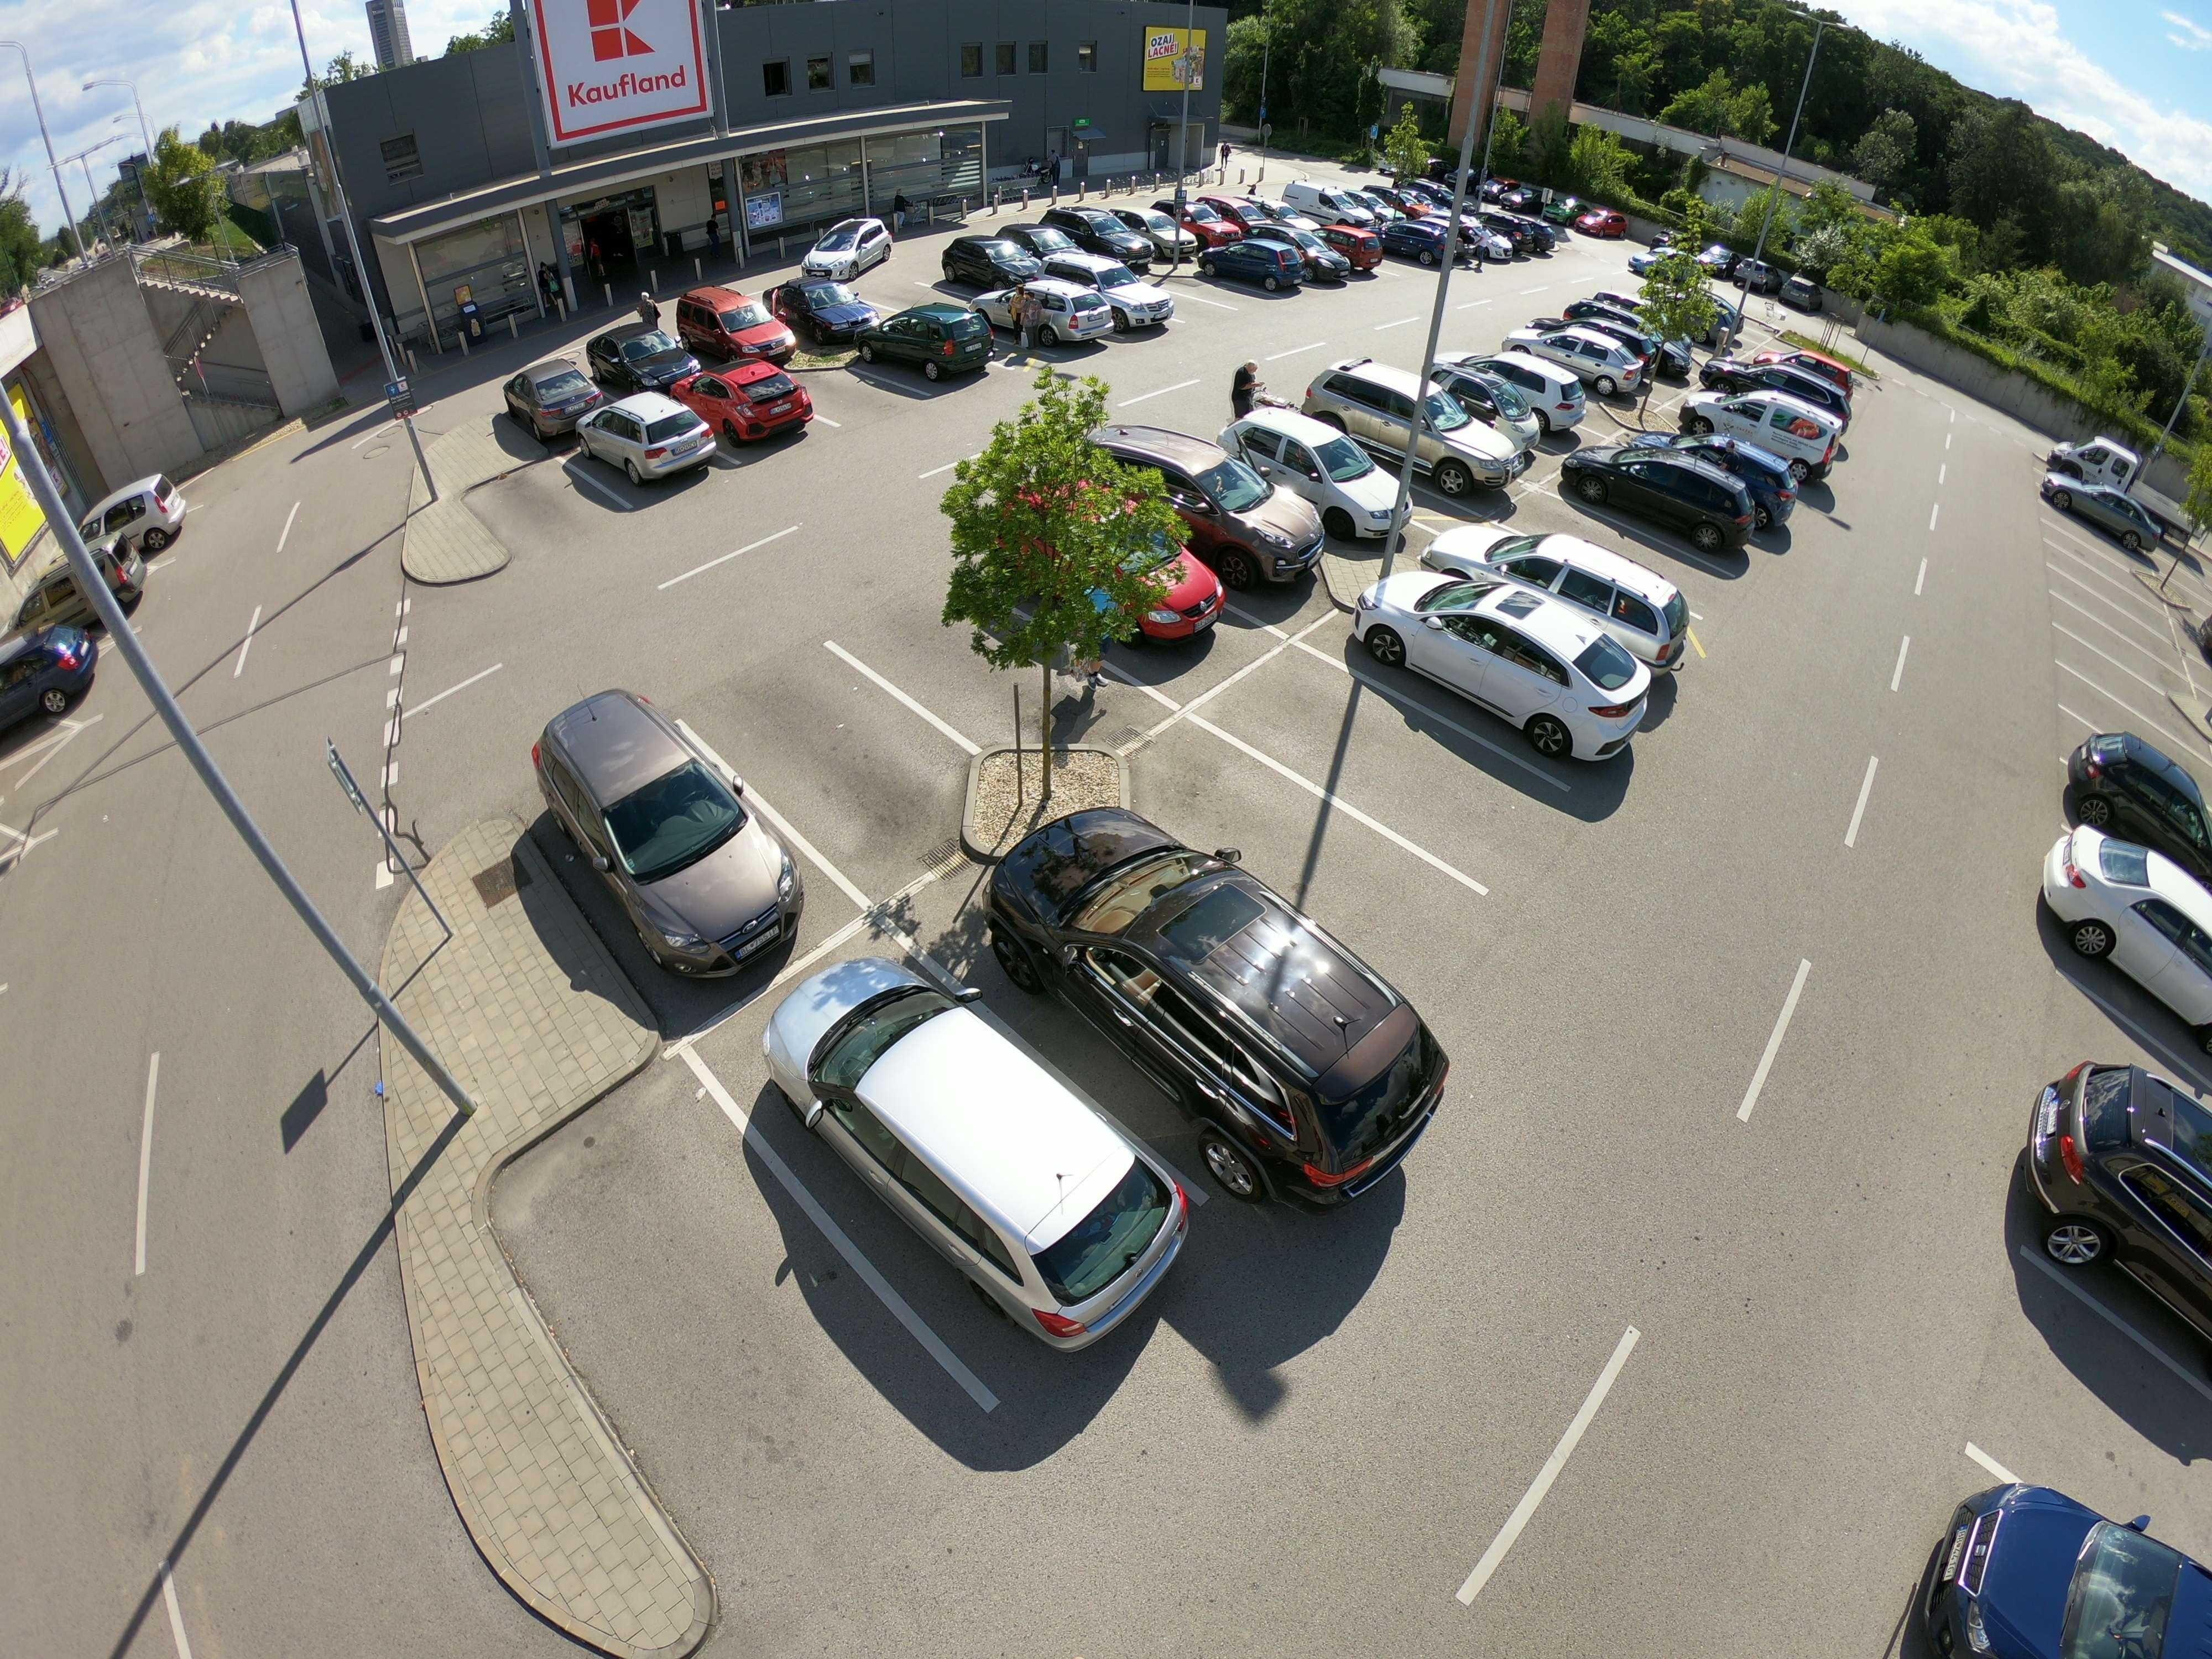empty: (995, 824, 1439, 1180), (780, 967, 1193, 1344), (529, 692, 817, 972), (1359, 556, 1646, 753), (2048, 1053, 2205, 1392), (1916, 1480, 2212, 1659), (2045, 819, 2210, 1073), (1008, 465, 1221, 645), (1118, 418, 1312, 584), (1484, 526, 1695, 645), (1315, 361, 1503, 488), (2041, 415, 2198, 561), (1238, 404, 1393, 542), (1576, 448, 1764, 554), (2073, 742, 2210, 884), (61, 457, 188, 584), (0, 613, 122, 746), (981, 254, 1129, 354), (1677, 387, 1836, 474), (10, 528, 141, 627), (580, 392, 719, 484), (853, 296, 989, 390), (1447, 350, 1580, 444), (500, 359, 615, 441), (702, 362, 817, 441), (1522, 321, 1637, 392), (773, 270, 880, 345), (594, 321, 704, 390), (683, 295, 792, 361), (1205, 232, 1303, 301)
occupied: (536, 1194, 834, 1410), (2022, 1342, 2196, 1532), (2029, 974, 2174, 1098), (920, 606, 1062, 720), (773, 702, 909, 805), (1226, 798, 1348, 896), (1339, 714, 1461, 812), (502, 479, 590, 545), (1143, 270, 1242, 324), (801, 375, 873, 422), (2085, 702, 2155, 744), (2080, 669, 2142, 708), (2095, 633, 2142, 673)
